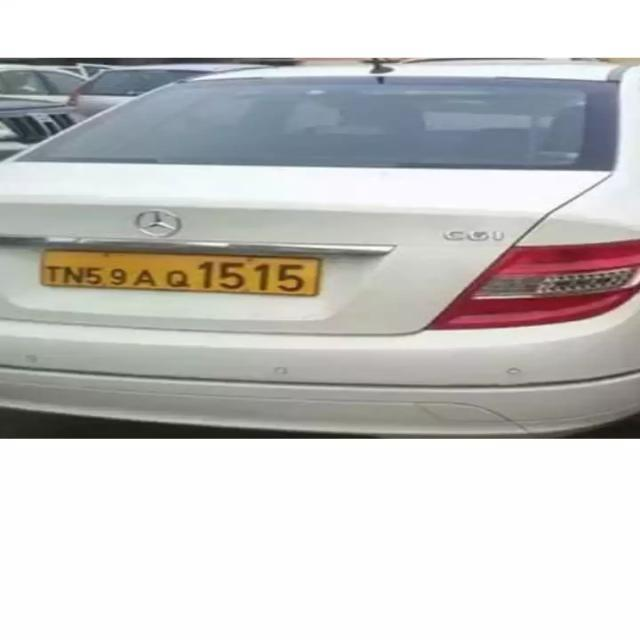plate: (38, 247, 322, 297)
